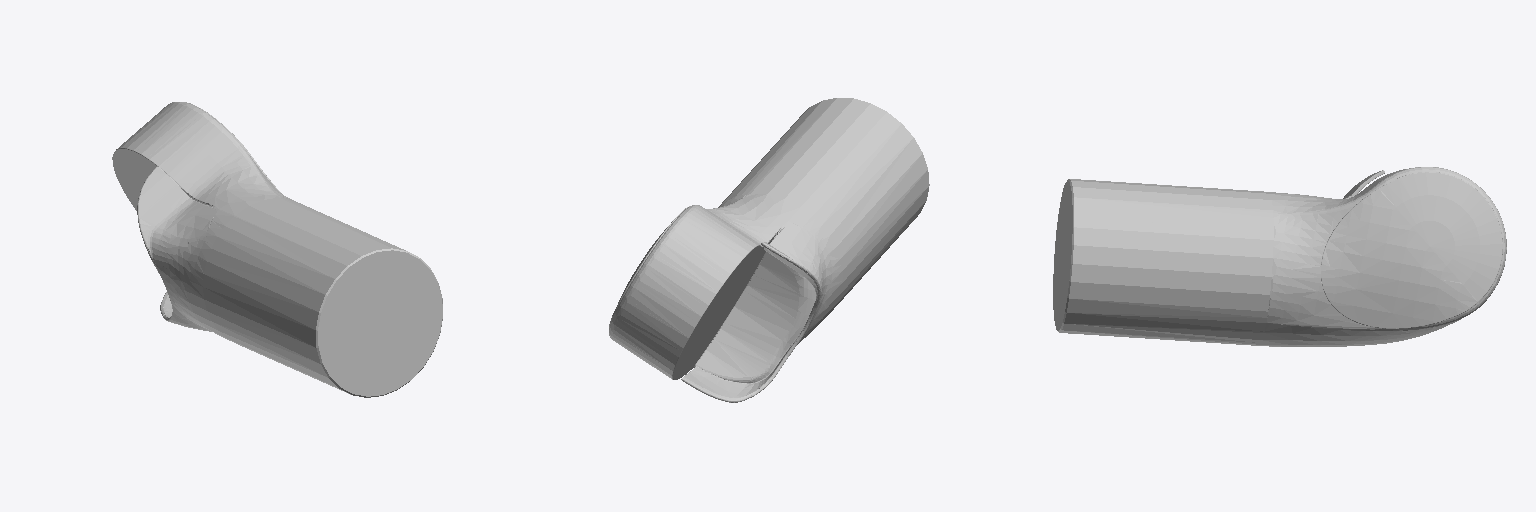
File: arm_3.obj
The picture shows the model from 3 angles: view 1: azimuth 30°, elevation 25°; view 2: azimuth 150°, elevation 25°; view 3: azimuth 270°, elevation 25°; orthographic projection.
Visible parts, largest first — view 1: arm_3; view 2: arm_3; view 3: arm_3.
Boxes of the visible parts, box(x1,y1,x2,y2) form: arm_3: box(112, 102, 442, 397); arm_3: box(609, 98, 929, 402); arm_3: box(1053, 167, 1506, 346).
Bounding box in the file's own units: 0.1229 × 0.1336 × 0.2937.